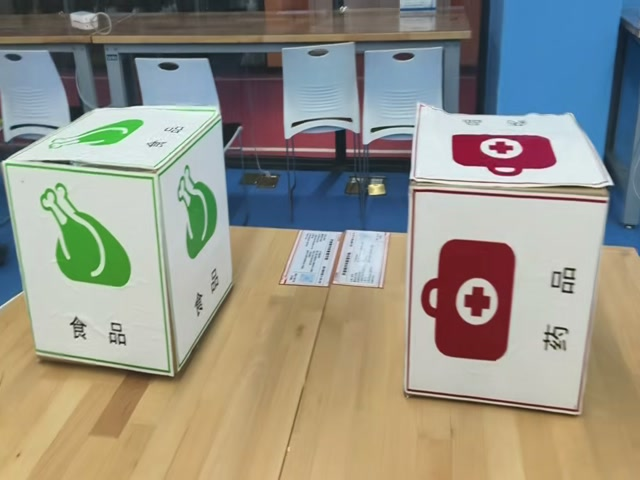Cube_food: (7, 104, 220, 175)
Cube_medicine: (412, 109, 617, 195)
